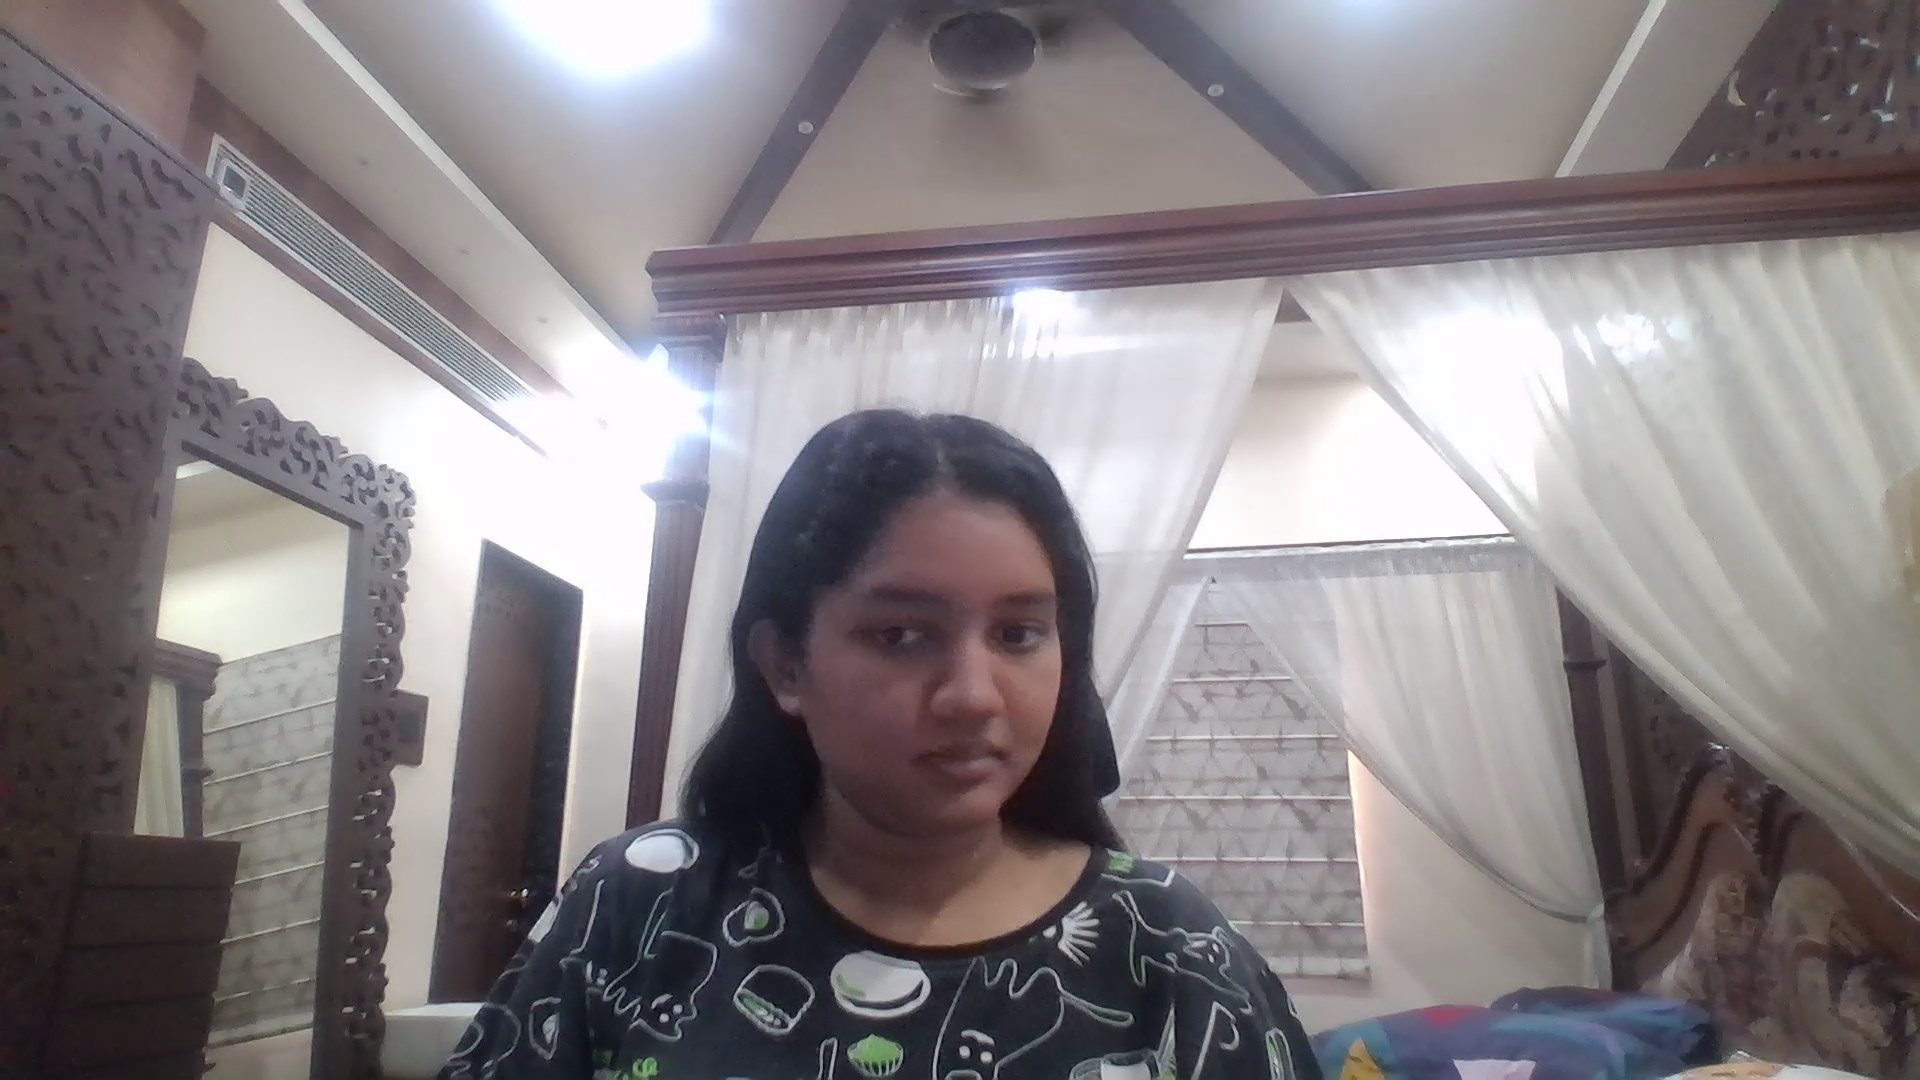No Mask: (814, 675, 1065, 831)
